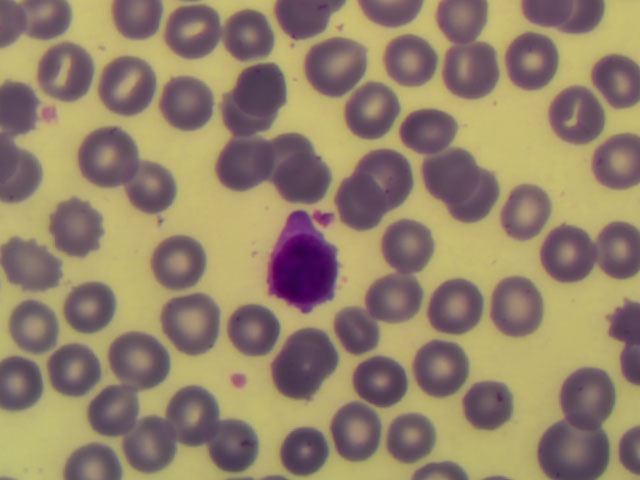Platelets: (38, 102, 65, 129), (227, 368, 253, 392)
RBC: (35, 39, 96, 105), (96, 53, 157, 119), (81, 126, 142, 192), (116, 151, 177, 217), (51, 194, 112, 260), (2, 224, 63, 290), (64, 272, 125, 338), (18, 288, 79, 354), (38, 337, 99, 403), (89, 372, 150, 438), (117, 325, 178, 391), (156, 288, 217, 354), (152, 237, 213, 303), (216, 131, 277, 197), (216, 79, 277, 145), (234, 58, 295, 124), (160, 69, 221, 135), (220, 9, 281, 75), (159, 2, 220, 68), (309, 33, 370, 99), (334, 70, 395, 136), (389, 94, 450, 160), (360, 139, 421, 205), (335, 178, 396, 244), (270, 148, 331, 214), (264, 131, 325, 197), (422, 150, 483, 216), (492, 174, 553, 240), (384, 207, 445, 273), (364, 264, 425, 330), (327, 302, 388, 368), (274, 328, 335, 394), (233, 297, 294, 363), (350, 346, 411, 412), (407, 340, 468, 406), (426, 274, 487, 340), (496, 274, 557, 340), (530, 224, 591, 290), (579, 218, 640, 284), (579, 129, 640, 195), (545, 85, 606, 151), (499, 35, 560, 101), (440, 42, 501, 108), (383, 27, 444, 93), (575, 46, 636, 112), (560, 359, 621, 425), (537, 414, 598, 480), (453, 373, 514, 439), (385, 404, 446, 470), (332, 401, 393, 467), (275, 414, 336, 480), (210, 413, 271, 479), (172, 383, 233, 449), (133, 410, 194, 476)
WBC: (266, 214, 345, 308)
